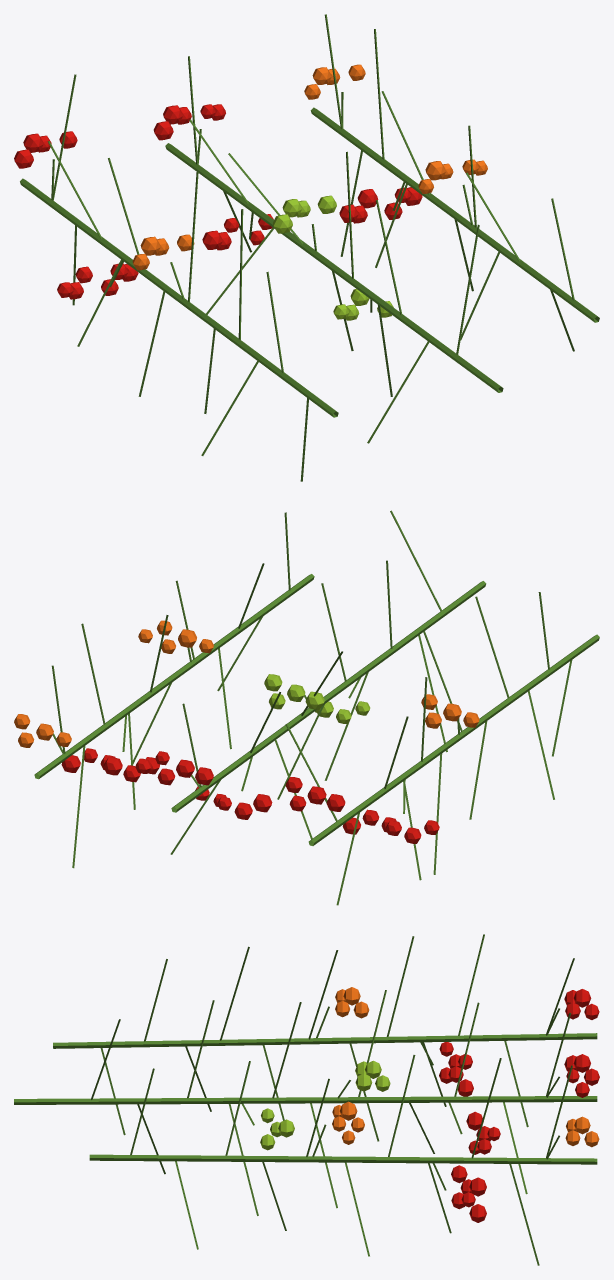
File: r18c5_stems.obj
The picture shows the model from 3 angles, top to bottom: view 1: azimuth 30°, elevation 25°; view 2: azimuth 150°, elevation 25°; view 3: azimuth 270°, elevation 25°; orthographic projection. The views are drawn at different scales.
Visible parts, largest first — view 1: r18c5_stems; view 2: r18c5_stems; view 3: r18c5_stems.
Boxes of the visible parts, <box> form: r18c5_stems: <box>14,14,599,481</box>; r18c5_stems: <box>14,510,599,905</box>; r18c5_stems: <box>14,934,599,1265</box>.
Bounding box in the file's own units: 1.44 × 0.8777 × 2.17.
